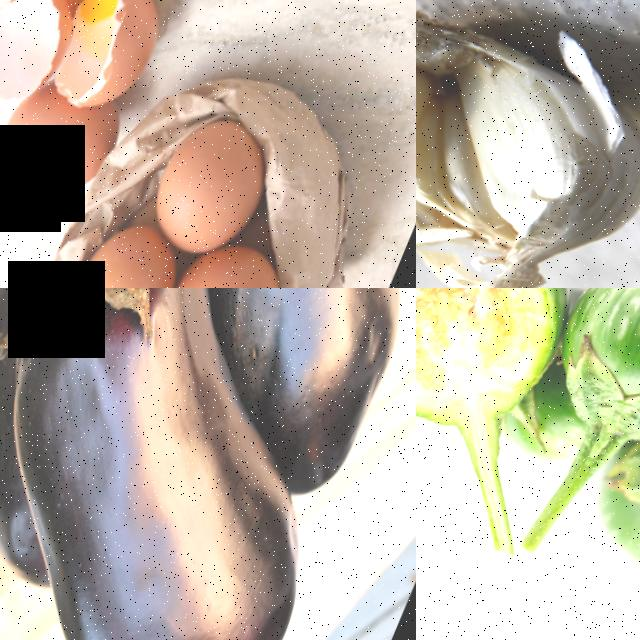egg_: (136, 111, 281, 279), (0, 77, 126, 231), (47, 216, 191, 288), (144, 233, 297, 288)
eggplant: (0, 288, 416, 640)
garlic: (416, 0, 640, 288)
